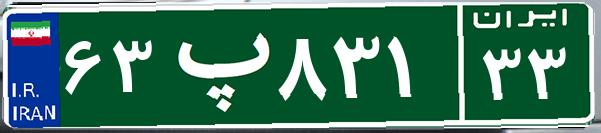1: (385, 28, 445, 110)
3: (330, 28, 385, 110), (475, 38, 525, 113), (110, 28, 158, 105), (525, 38, 570, 115)
6: (57, 26, 110, 107)
8: (273, 28, 330, 110)
پ: (158, 15, 273, 115)
